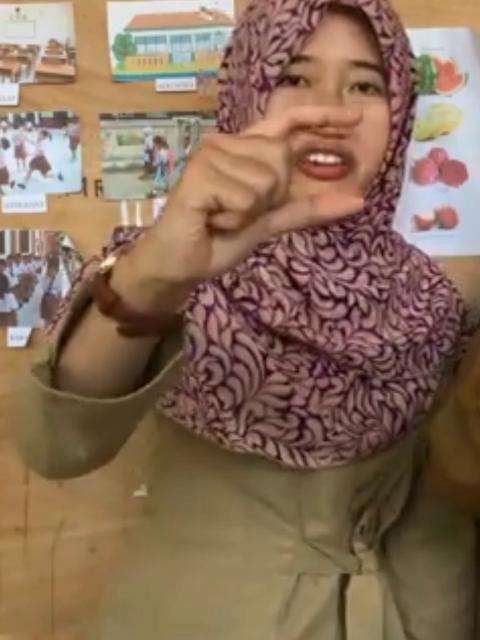G: (133, 106, 365, 280)
